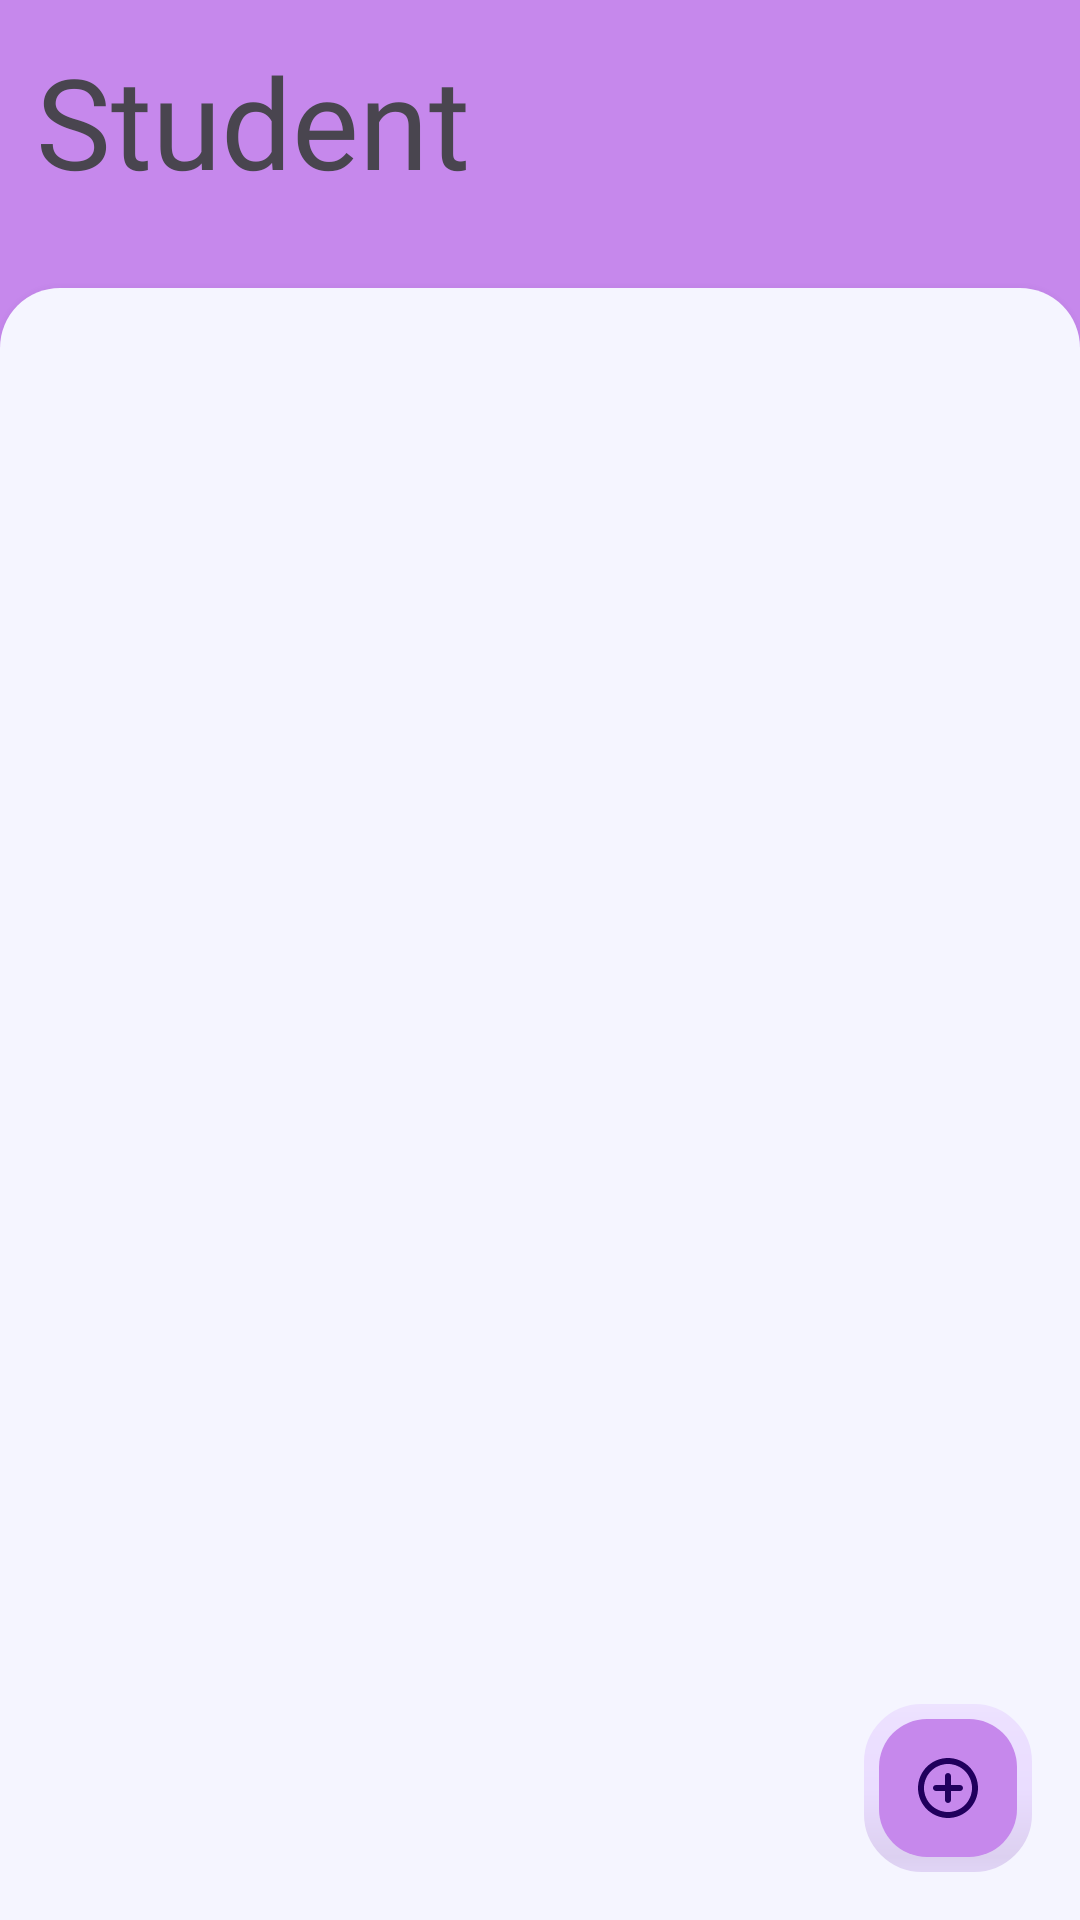

Locate icon controls on the screen. Image size 1080*1920, boxes as rect(x1, y1, x2, y2).
Add Student: rect(864, 1719, 1032, 1872)
